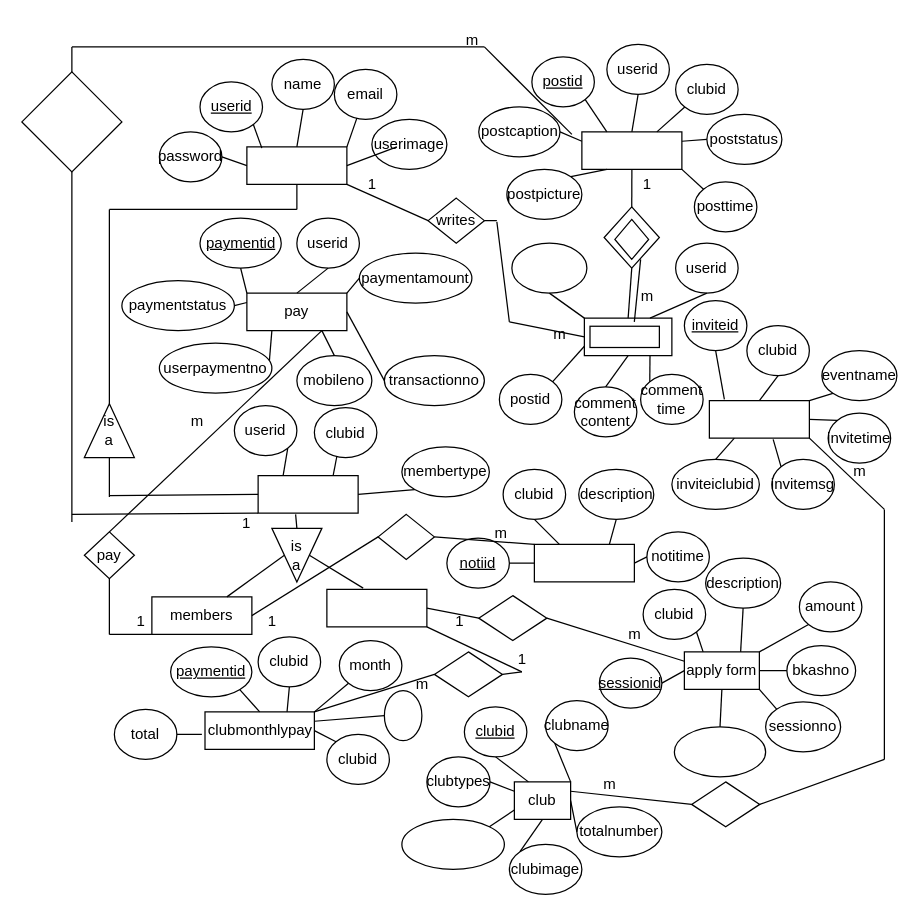
The diagram is 919 pixels wide and 916 high, and some of its shapes have lost their labels. Each missing label, with the centre of its shape:
admin: point (376, 607)
clubdescription: point (452, 843)
clubmembers: point (307, 493)
comment: point (624, 336)
commentid: point (549, 267)
create/manage: point (71, 121)
creates: point (512, 617)
gets: point (405, 536)
has: point (631, 238)
invitation: point (758, 418)
notification: point (583, 562)
opens: point (467, 674)
post: point (631, 150)
sends: point (725, 804)
sessionstatus: point (719, 751)
users: point (296, 165)
year: point (402, 715)
